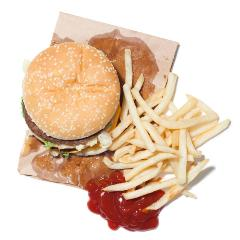organic: (18, 39, 112, 151), (126, 77, 210, 180)
